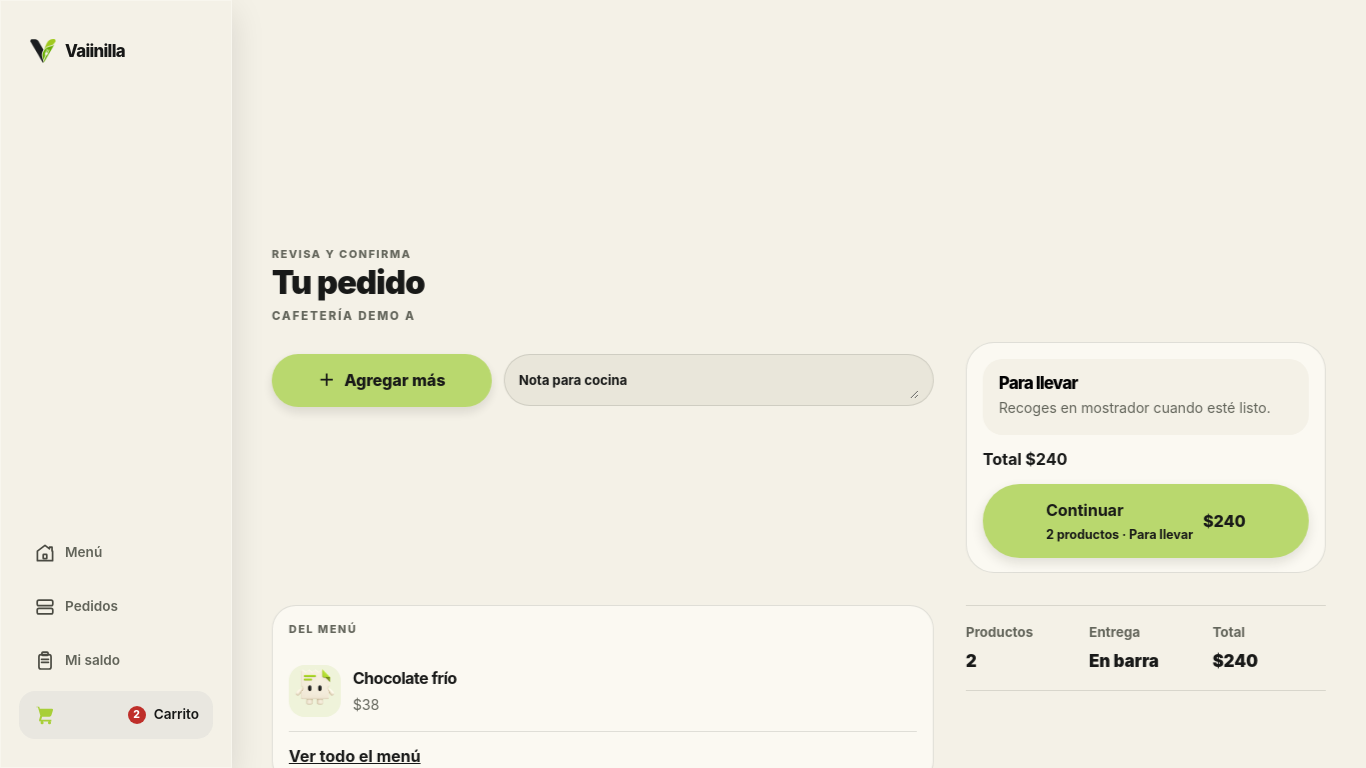
Scenario: CartPage › compra sin cuenta › sin cuenta no ofrece tarjeta por ahora (solo caja o pagar al final)
Click the button "Continuar 2 productos · Para llevar $240": [1085, 510] box [983, 484, 1309, 558]
(page scrolled)
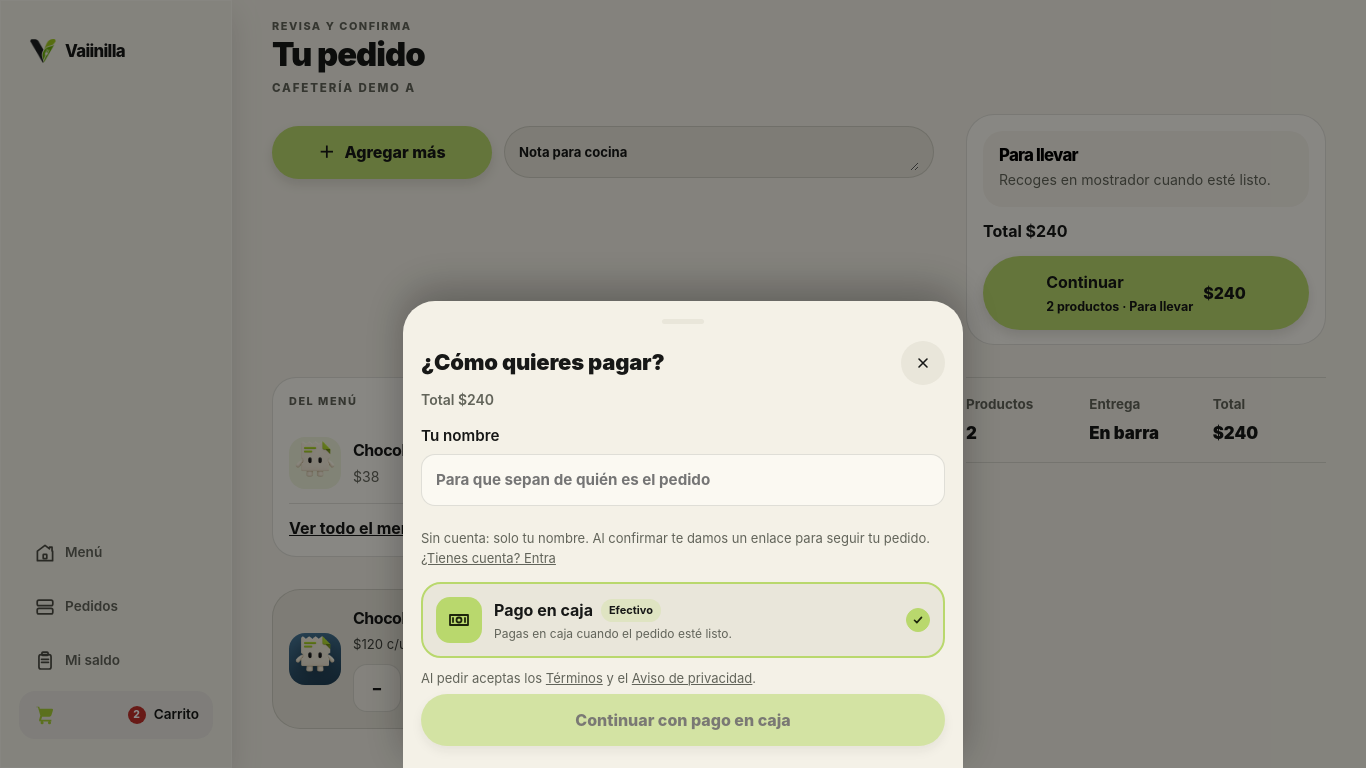
Check: the radio button labelled "Pago en caja" is shown, box [421, 582, 945, 658]
